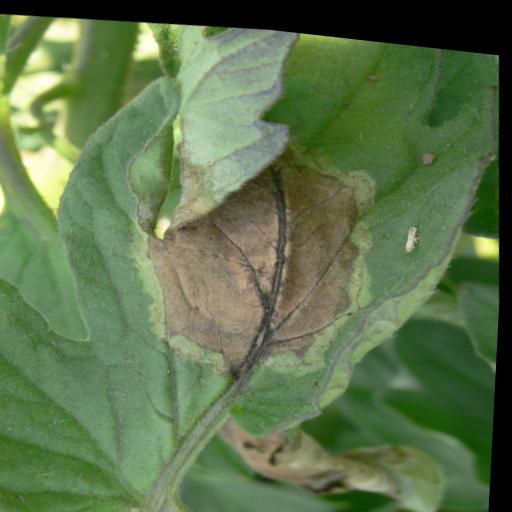Late Blight: (0, 1, 512, 512)
